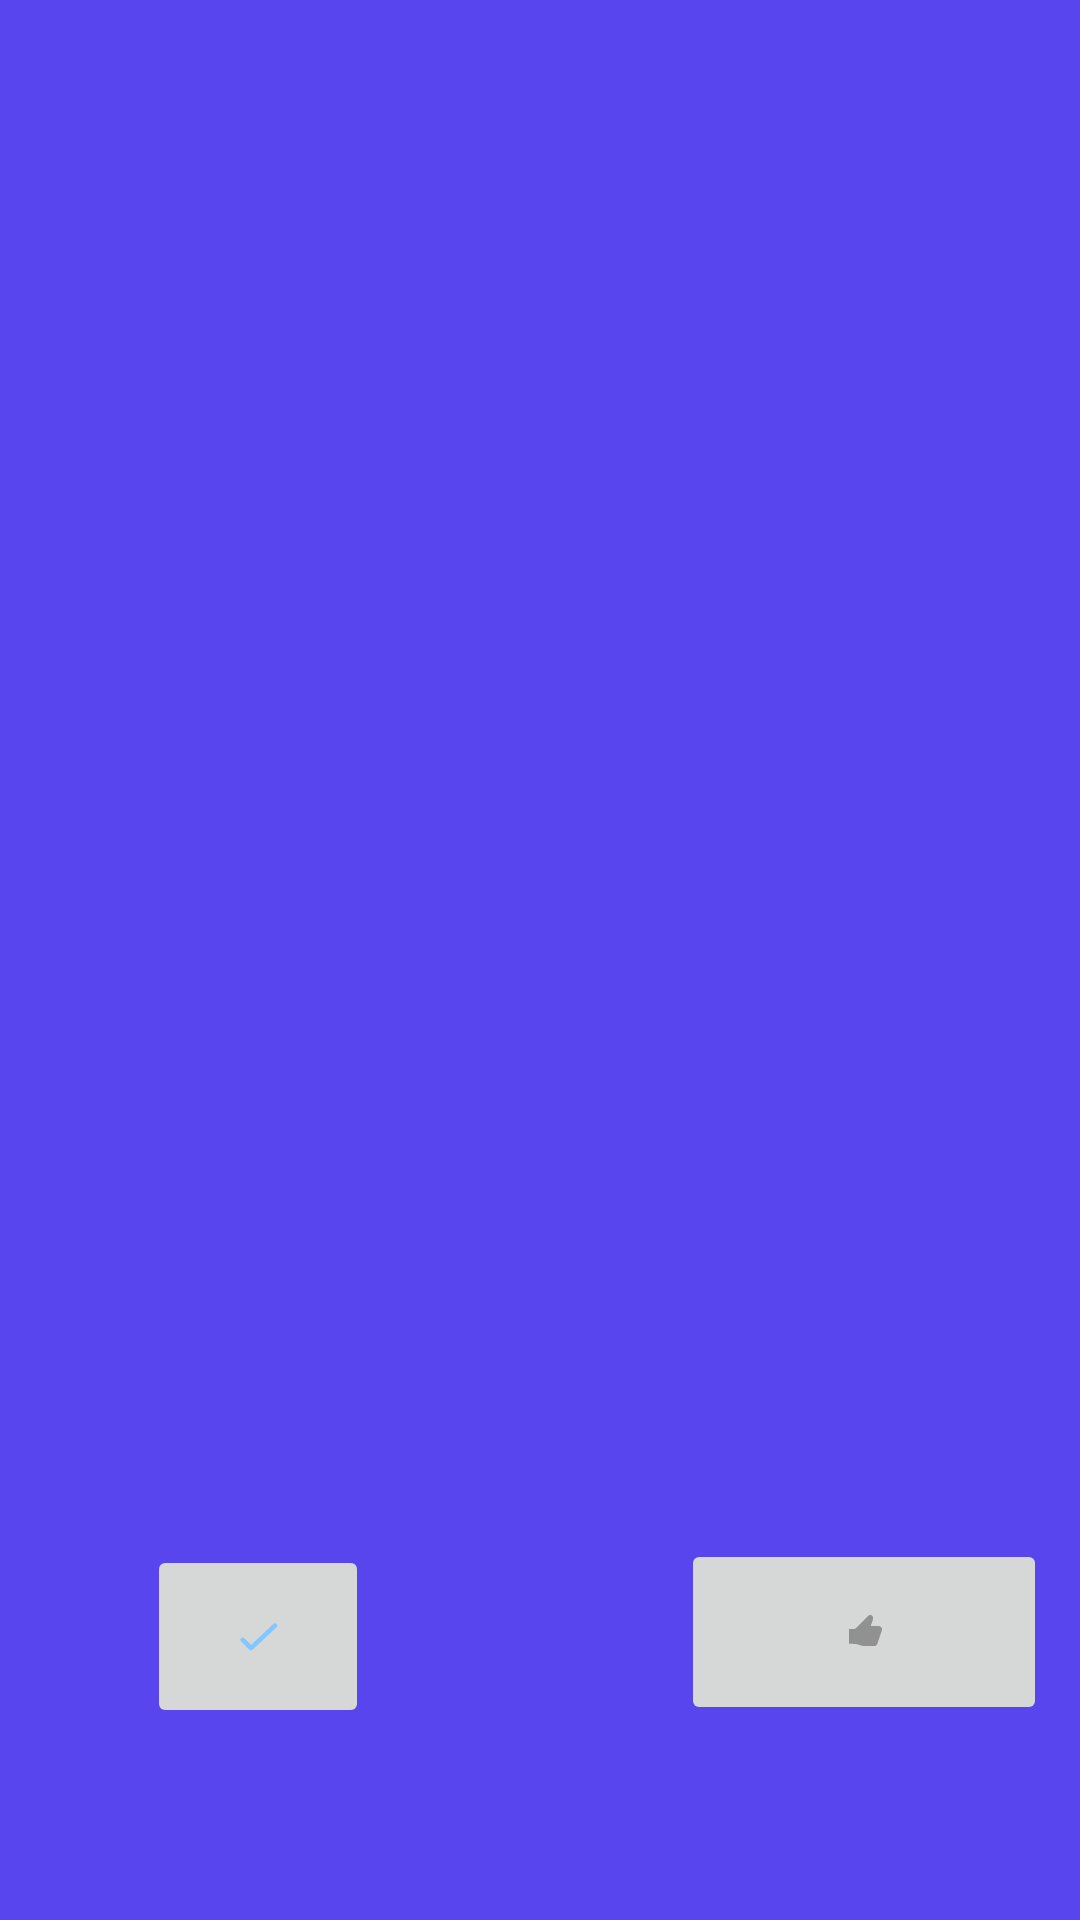

Screen size 1080 x 1920. Icon name, then its box in pixels as [x1, y1, x2, y2]:
chulo: [159, 1563, 357, 1710]
mano: [693, 1557, 1035, 1707]
